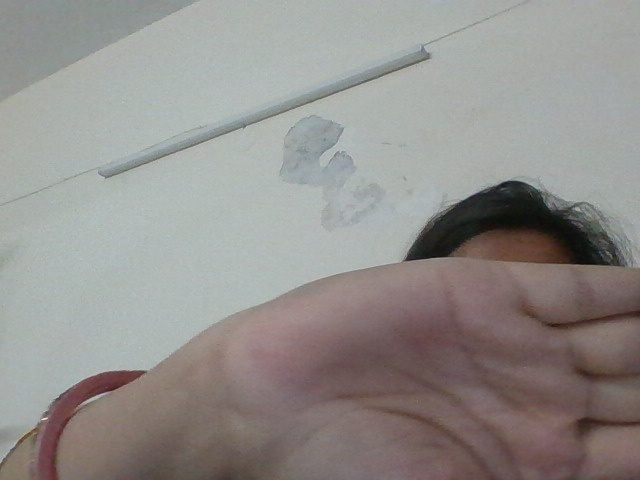rewind: (142, 242, 638, 475)
